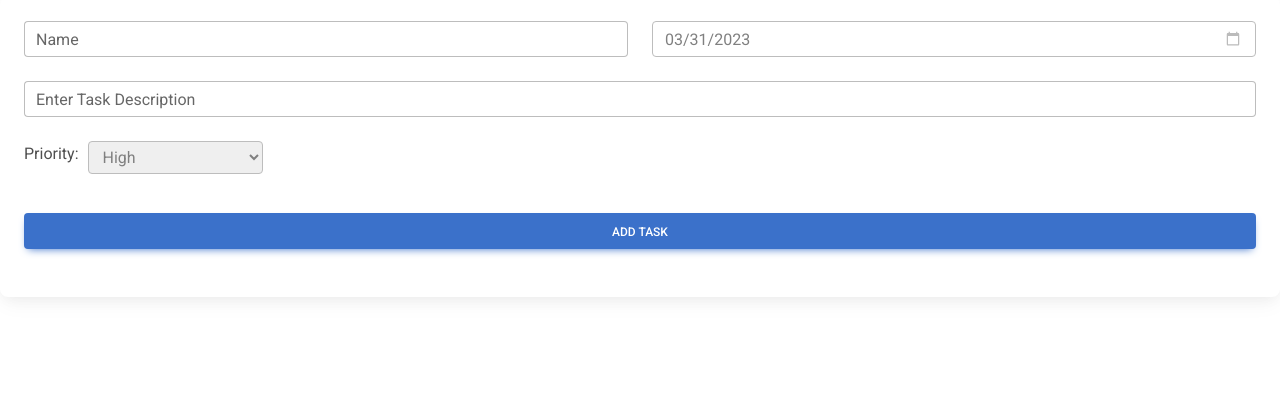
it: renders a create todo form and check if it renders the validation error
Note: Fire event to trigger component update
Step 1. Select "None" in the dropdown with test id "todo priority" → (175, 157), box [88, 141, 262, 174]
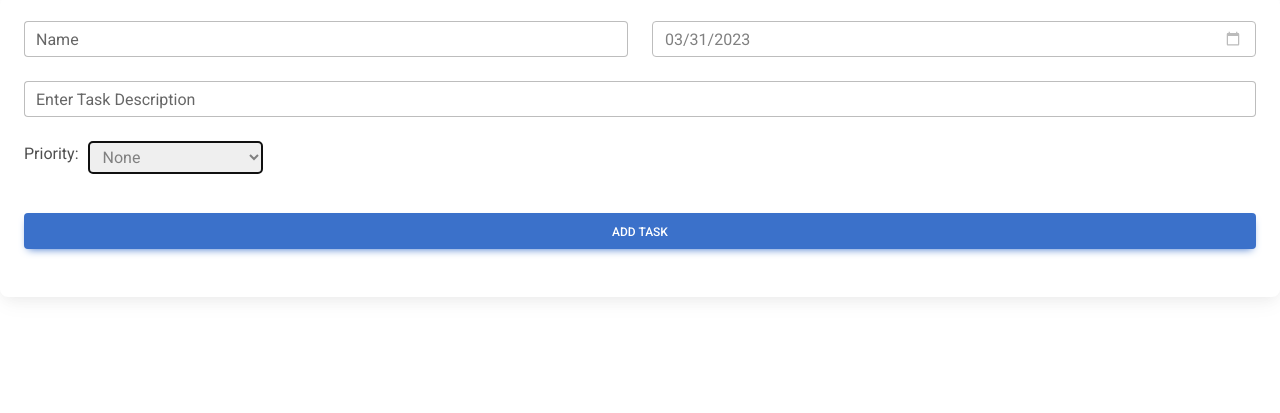
Step 2. Click the button with test id "create-todo-form-submit" → click(640, 231), box [24, 213, 1256, 249]
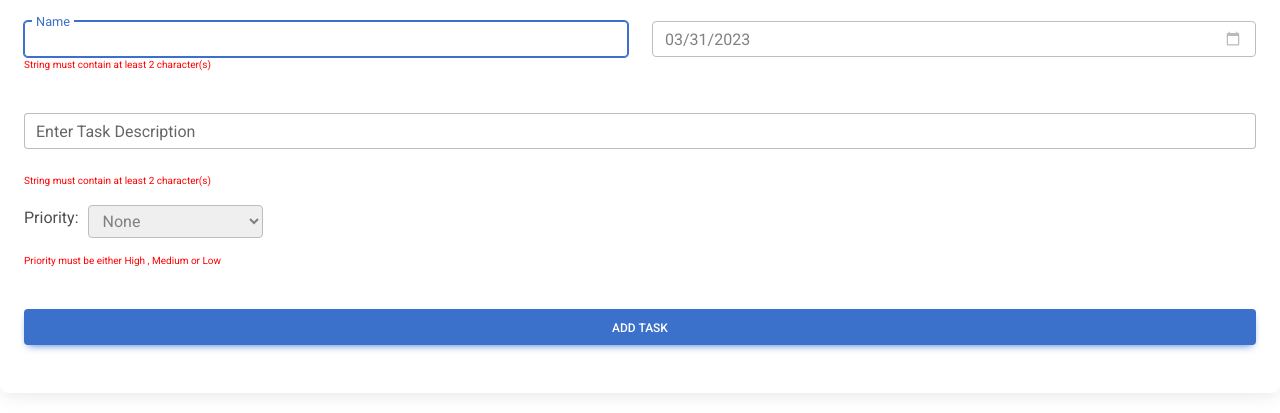
Check: the text with test id "text-error-name" reads "String must contain at least 2 character(s)", box [24, 59, 211, 70]
Check: the text with test id "text-error-text" reads "String must contain at least 2 character(s)", box [24, 175, 211, 186]
Check: the text with test id "text-error-priority" reads "Priority must be either High , Medium or Low", box [24, 255, 221, 266]
